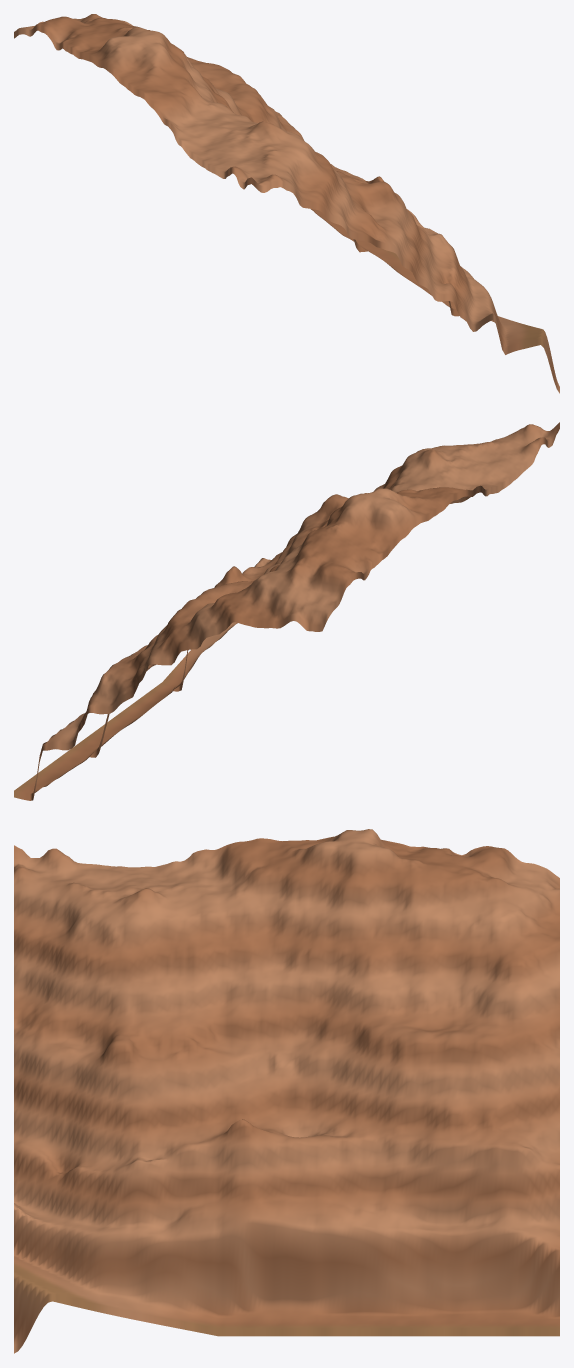
Rendered from terrain-023.glb.
3 renders of one model, top to bottom at view 1: azimuth 30°, elevation 25°; view 2: azimuth 150°, elevation 25°; view 3: azimuth 270°, elevation 25°, orthographic. The views are drawn at different scales.
Parts seen in each view (by area): view 1: terrain-023; view 2: terrain-023; view 3: terrain-023.
Part boxes in pixels (x1=…): terrain-023: x1=14, y1=14, x2=559, y2=393; terrain-023: x1=14, y1=422, x2=559, y2=800; terrain-023: x1=14, y1=829, x2=559, y2=1353.
Size of the model in its own units: 192 by 187 by 256.
